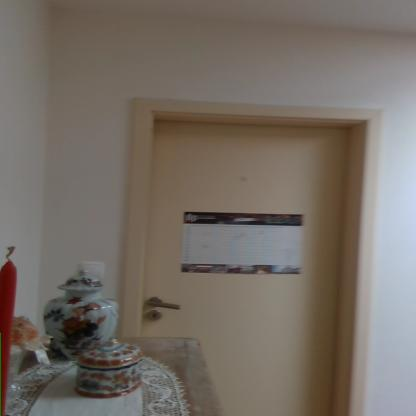closed: (104, 81, 395, 403)
